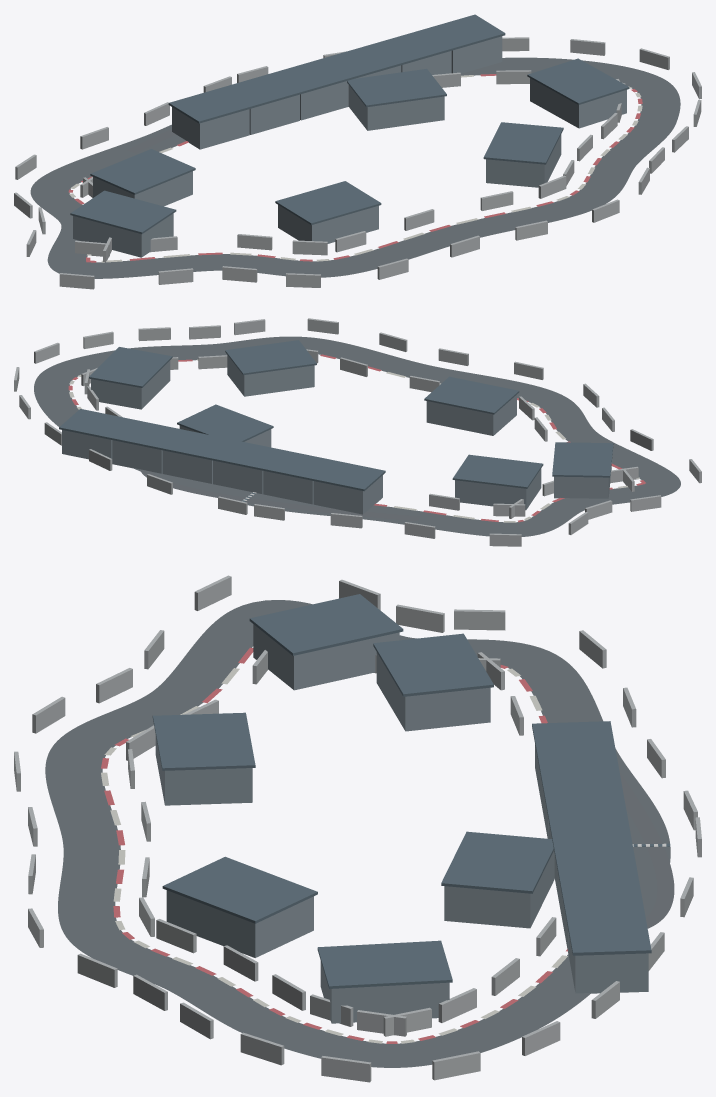
The picture shows the model from 3 angles, top to bottom: view 1: azimuth 30°, elevation 25°; view 2: azimuth 150°, elevation 25°; view 3: azimuth 270°, elevation 25°; orthographic projection. The views are drawn at different scales.
Visible parts, largest first — view 1: asphalt, grandstand_roof_3, grandstand_roof_4, grandstand_roof_5, grandstand_roof_1, grandstand_roof_0, grandstand_roof_2, grandstand_0, grandstand_1, grandstand_3, grandstand_4, pit_building_0 (+27 smaller); view 2: asphalt, grandstand_roof_3, grandstand_roof_2, grandstand_roof_5, grandstand_roof_1, grandstand_roof_4, grandstand_3, grandstand_roof_0, grandstand_2, grandstand_5, grandstand_1, pit_building_0 (+32 smaller); view 3: asphalt, grandstand_roof_2, grandstand_roof_4, grandstand_roof_1, grandstand_roof_5, grandstand_roof_3, grandstand_roof_0, grandstand_2, grandstand_4, grandstand_5, grandstand_0, grandstand_1 (+23 smaller).
Part boxes in pixels (x1,y1,x2,y2): asphalt: [30, 57, 680, 278]; grandstand_roof_3: [275, 181, 381, 224]; grandstand_roof_4: [70, 190, 176, 233]; grandstand_roof_5: [90, 149, 195, 194]; grandstand_roof_1: [527, 58, 629, 104]; grandstand_roof_0: [347, 68, 446, 107]; grandstand_roof_2: [483, 122, 563, 164]; grandstand_0: [348, 85, 444, 130]; grandstand_1: [530, 78, 626, 128]; grandstand_3: [278, 205, 378, 243]; grandstand_4: [73, 213, 173, 257]; pit_building_0: [172, 107, 249, 149]; asphalt: [34, 336, 680, 536]; grandstand_roof_3: [424, 376, 519, 414]; grandstand_roof_2: [225, 340, 316, 375]; grandstand_roof_5: [452, 454, 543, 488]; grandstand_roof_1: [89, 347, 172, 387]; grandstand_roof_4: [552, 442, 613, 477]; grandstand_3: [426, 395, 516, 435]; grandstand_roof_0: [177, 404, 273, 441]; grandstand_2: [227, 355, 314, 396]; grandstand_5: [455, 468, 541, 510]; grandstand_1: [91, 360, 170, 409]; pit_building_0: [313, 475, 382, 514]; asphalt: [45, 600, 670, 1067]; grandstand_roof_2: [162, 856, 317, 923]; grandstand_roof_4: [249, 594, 403, 655]; grandstand_roof_1: [317, 940, 452, 988]; grandstand_roof_5: [373, 633, 493, 696]; grandstand_roof_3: [152, 712, 255, 770]; grandstand_roof_0: [441, 831, 553, 893]; grandstand_2: [166, 890, 313, 957]; grandstand_4: [253, 624, 399, 690]; grandstand_5: [376, 652, 490, 731]; grandstand_0: [444, 850, 554, 928]; grandstand_1: [320, 961, 449, 1023].
Size of the model in its own units: 63.16 by 2.64 by 37.57.
